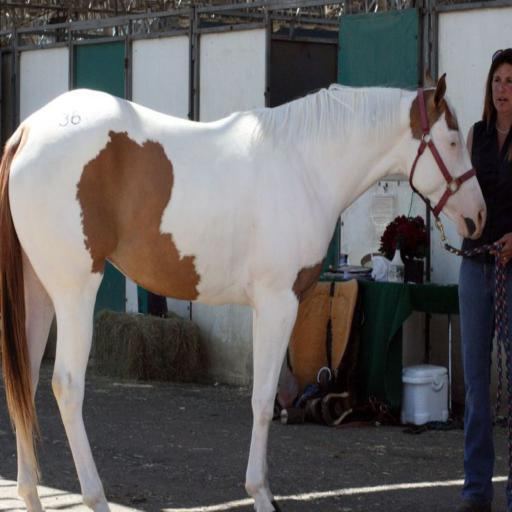horse: (0, 68, 490, 511)
